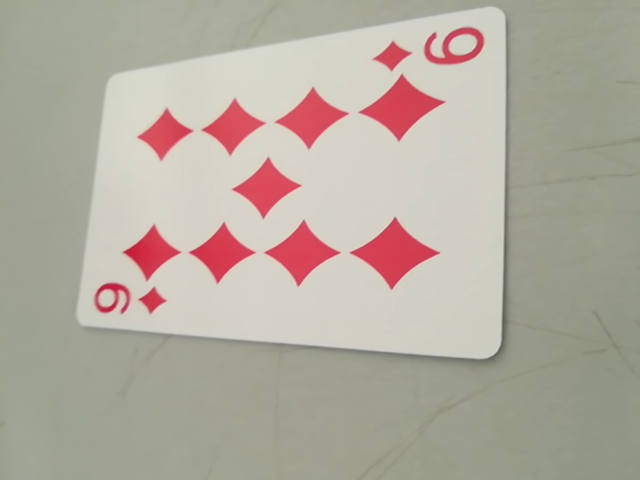fk 9: (372, 20, 491, 81), (85, 277, 174, 330)
